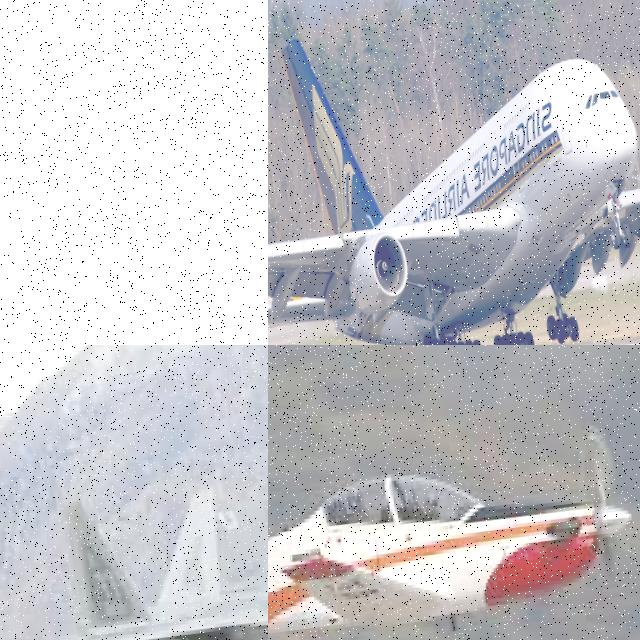A380: (268, 0, 640, 345)
F22: (4, 460, 268, 640)
KT-1: (268, 394, 640, 640)
